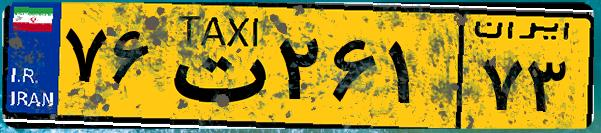1: (385, 28, 445, 110)
2: (270, 28, 330, 110)
3: (525, 38, 570, 115)
6: (330, 28, 385, 110), (110, 28, 158, 98)
7: (57, 26, 110, 100), (475, 38, 525, 113)
ت: (158, 12, 270, 120)
